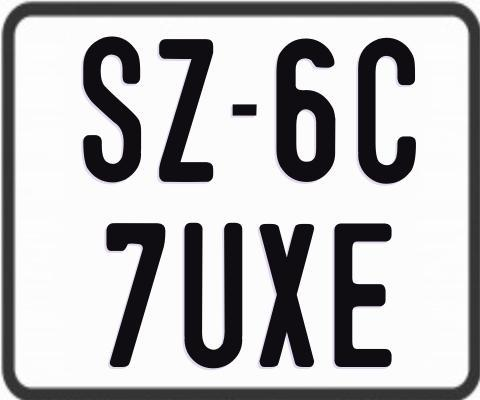6: (273, 36, 333, 182)
7: (104, 223, 165, 369)
C: (356, 36, 420, 187)
E: (334, 223, 397, 370)
S: (83, 37, 147, 187)
U: (181, 221, 243, 372)
X: (259, 221, 315, 364)
Z: (159, 36, 217, 182)
